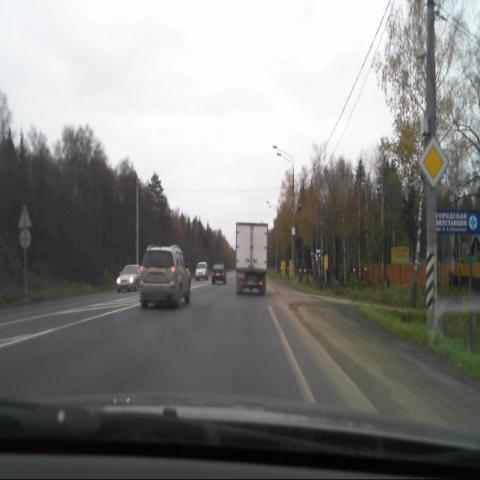2_1: (417, 133, 451, 188)
